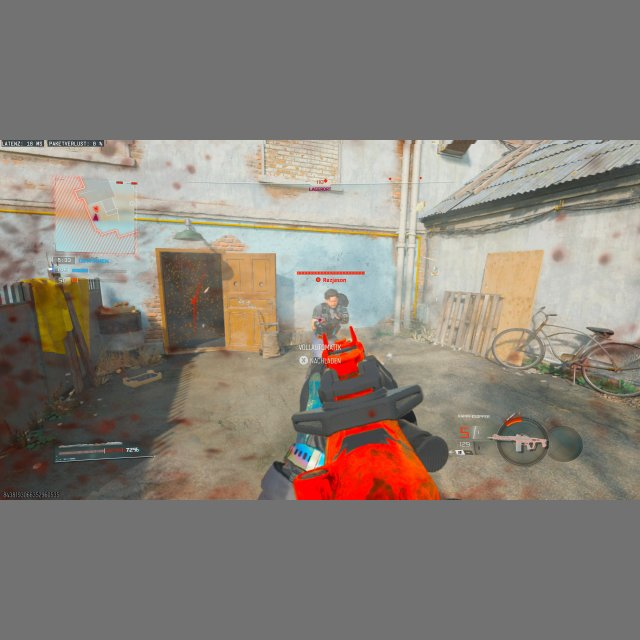head: (324, 289, 339, 308)
player: (311, 287, 350, 357)
